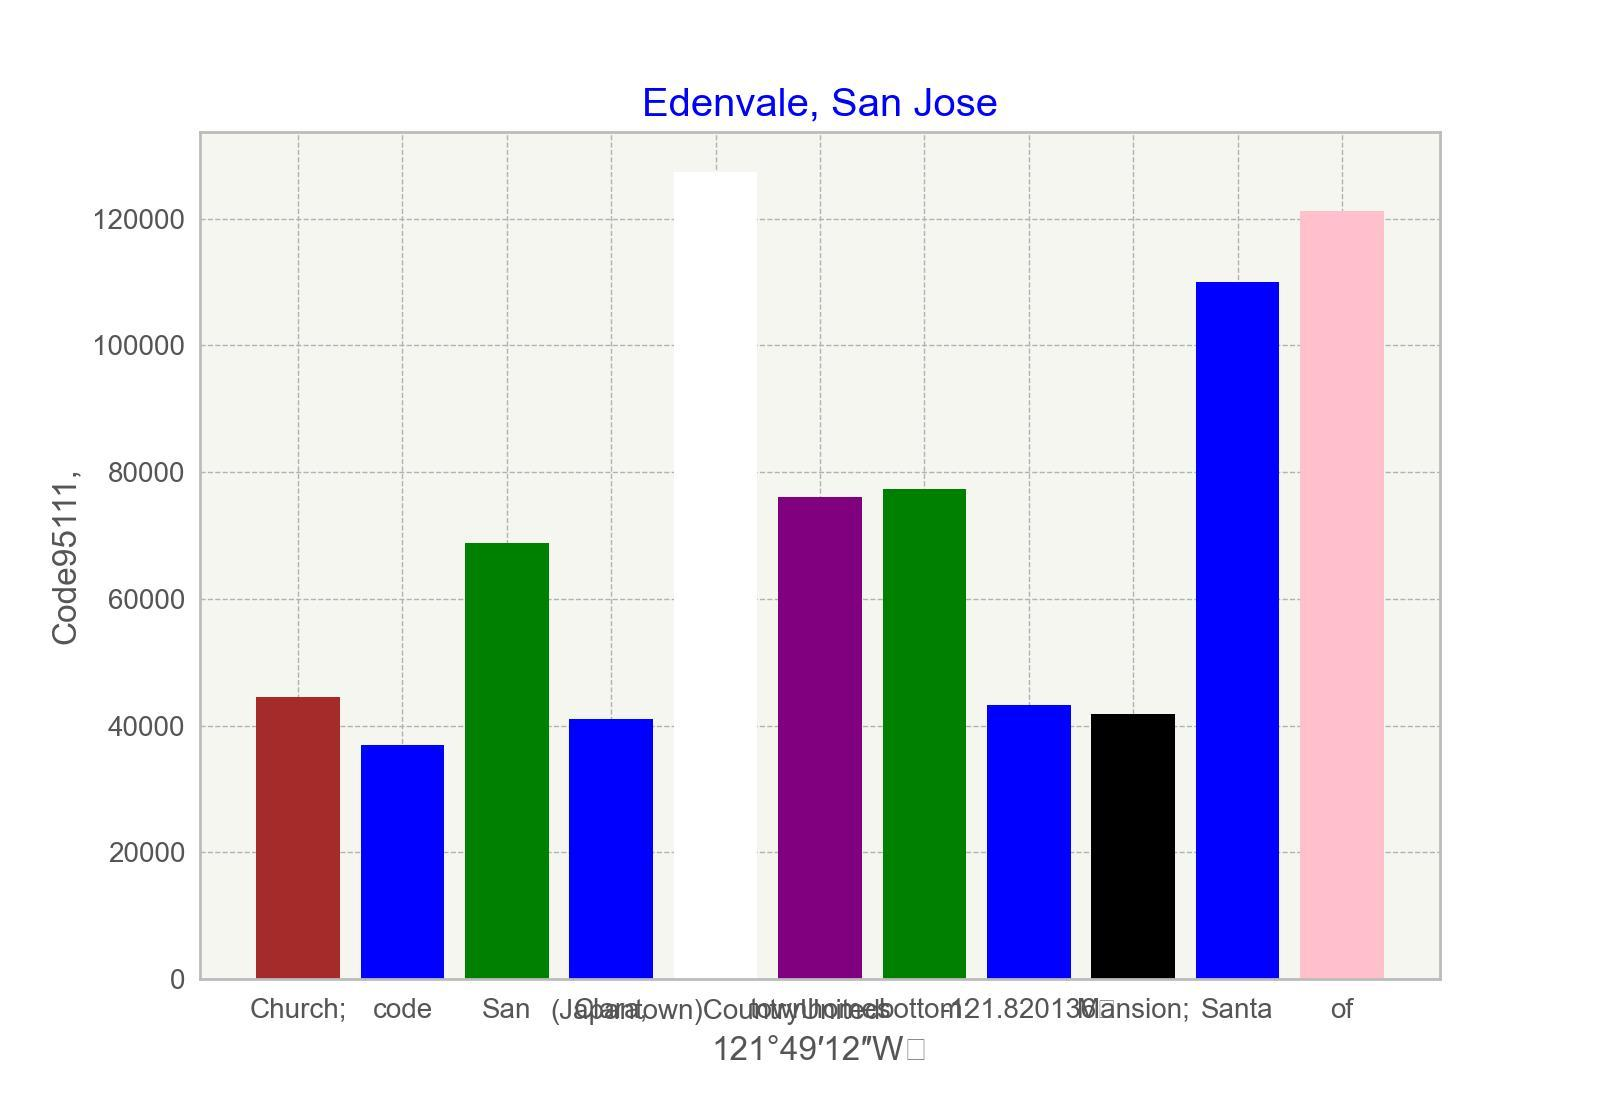axis: (50, 209, 185, 995)
rectangle: (674, 173, 757, 978), (1300, 211, 1384, 978), (1195, 282, 1279, 978), (883, 489, 967, 978), (778, 497, 862, 978), (464, 543, 550, 978), (257, 696, 340, 978), (987, 705, 1071, 978), (1091, 713, 1174, 978), (569, 720, 653, 978), (361, 745, 445, 978)
